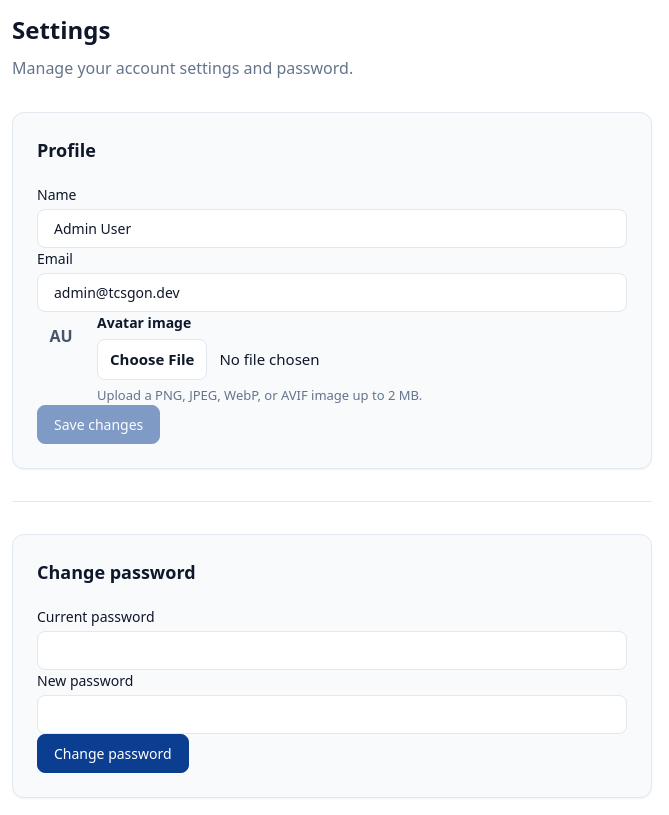
SettingsPage › updates profile on save
The image size is (669, 815).
Replace the text in the field labelled "Name" with "Updated Name" at (332, 228), box [37, 209, 627, 248]
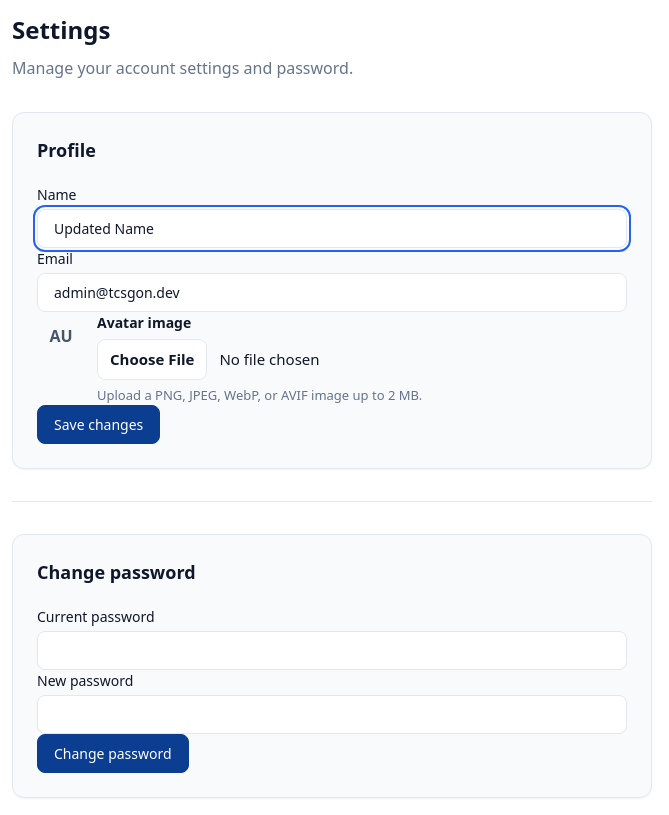
Check: the button "Save changes" is enabled
Click the button "Save changes" at (99, 424), box [37, 405, 160, 444]
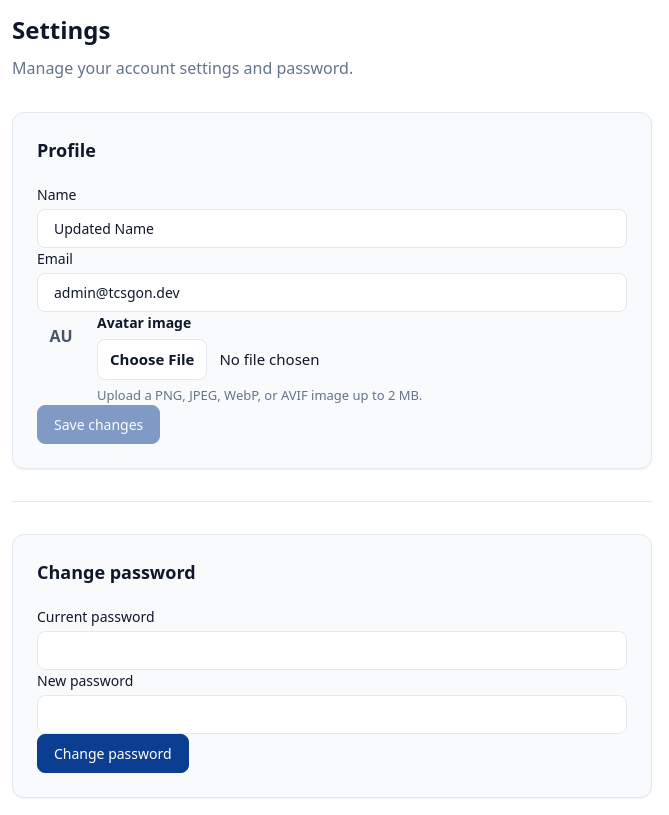
Check: the button "Save changes" is disabled, box [37, 405, 160, 444]
